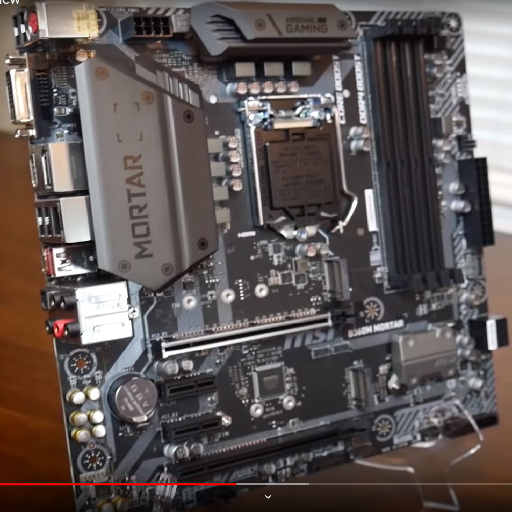CPU: (247, 113, 349, 241)
GPU: (164, 416, 380, 481), (157, 301, 367, 357)
MOTHERBOARD: (19, 5, 502, 495)
RAM: (363, 18, 465, 294)
SSD: (345, 366, 375, 411), (325, 256, 352, 301)
